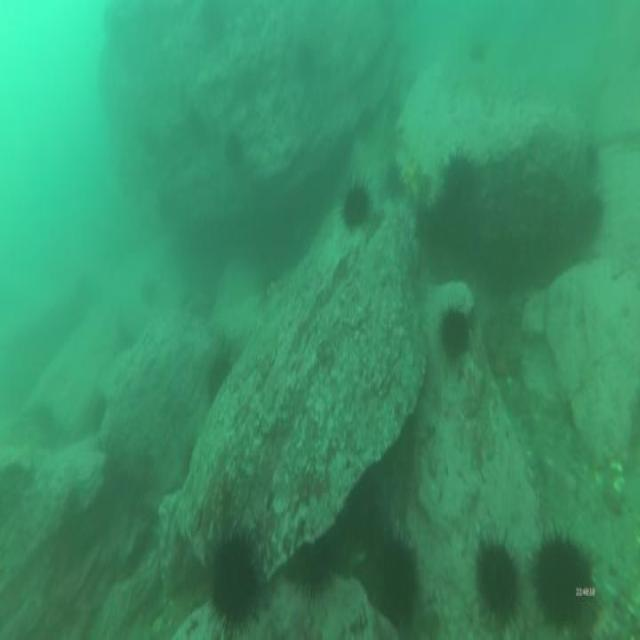echinus: (528, 521, 597, 637), (202, 526, 268, 638), (364, 522, 422, 630), (471, 528, 524, 630), (293, 533, 337, 610), (439, 147, 479, 226), (434, 300, 474, 368), (572, 190, 606, 251), (339, 177, 373, 237), (205, 352, 234, 410), (222, 126, 246, 178), (382, 155, 407, 204), (296, 40, 318, 90), (468, 38, 487, 69)
